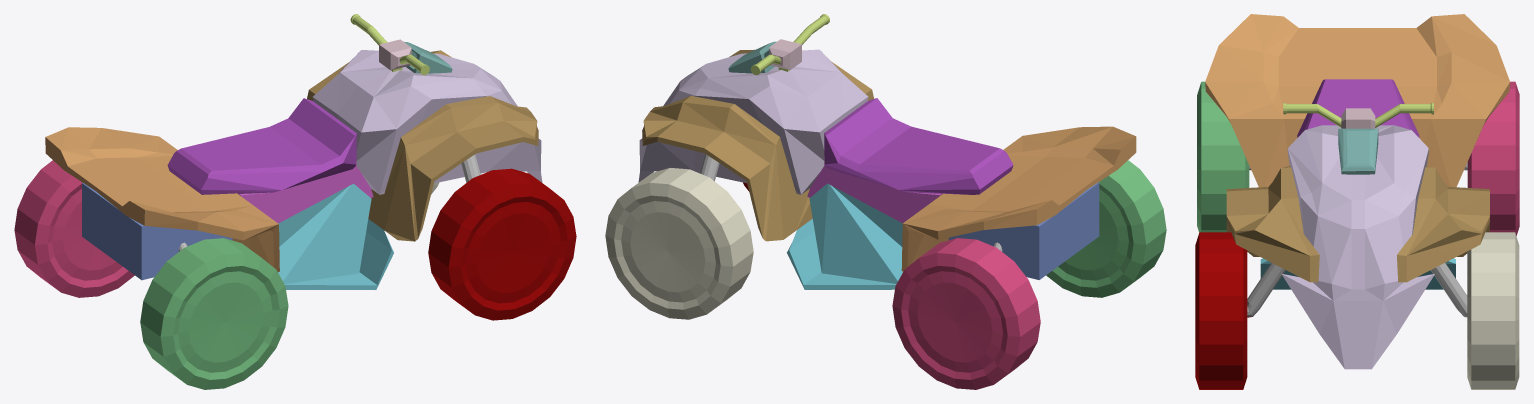
Rendered from full_15.glb.
3 views of the same model, side by side, from view 1: azimuth 30°, elevation 25°; view 2: azimuth 150°, elevation 25°; view 3: azimuth 270°, elevation 25° (orthographic). The views are drawn at different scales.
Visible parts, largest first — view 1: world; view 2: world; view 3: world.
Boxes of the visible parts, box(x1,y1,x2,y2) form: world: box(14, 14, 576, 389); world: box(605, 14, 1166, 389); world: box(1195, 14, 1519, 389).
Bounding box in the file's own units: 0.7923 × 0.3992 × 0.4615.
